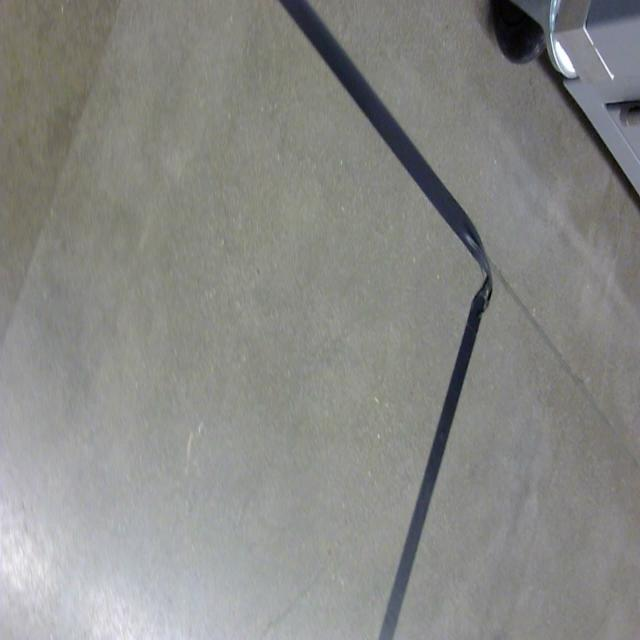tape: (256, 0, 524, 640)
